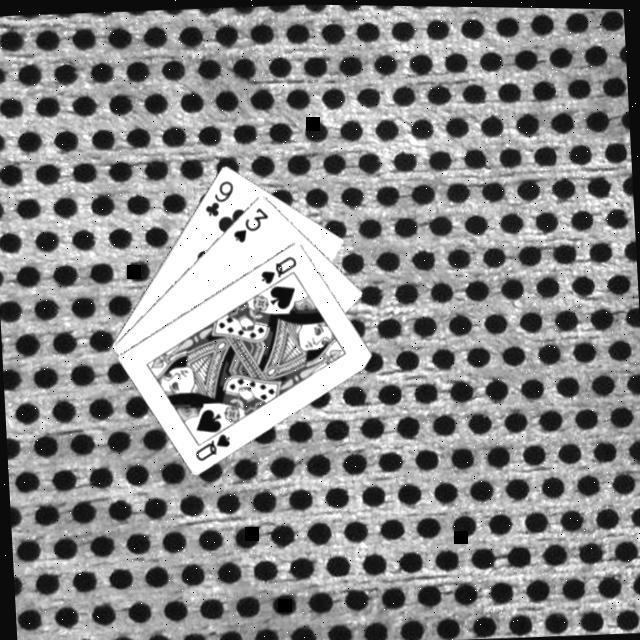3S: (229, 201, 273, 244)
9C: (201, 174, 239, 218)
QS: (258, 250, 302, 286), (192, 428, 236, 463)
